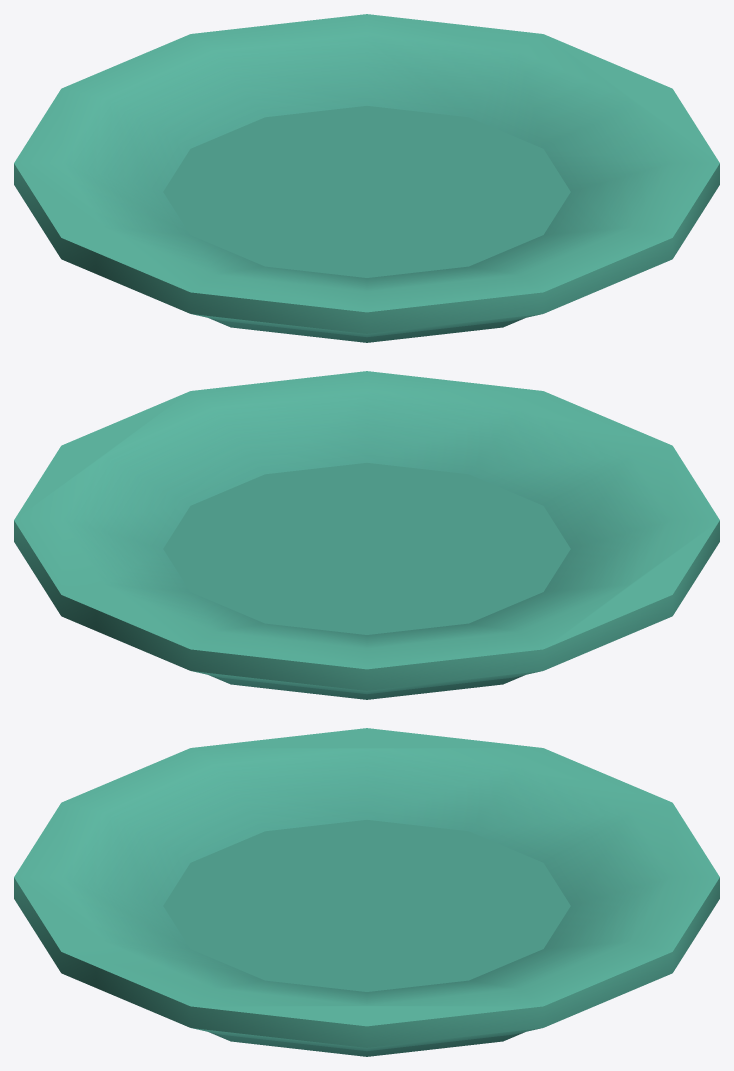
The model's file is plate.glb.
3 renders of one model, top to bottom at view 1: azimuth 30°, elevation 25°; view 2: azimuth 150°, elevation 25°; view 3: azimuth 270°, elevation 25°, orthographic.
Visible parts, largest first — view 1: plate; view 2: plate; view 3: plate.
Part boxes in pixels (left/top/right/bottom): plate: left=14, top=14, right=719, bottom=342; plate: left=14, top=371, right=719, bottom=699; plate: left=14, top=728, right=719, bottom=1056.
Size of the model in its own units: 0.8918 by 0.09 by 0.8918.
Materials: 1 (1 with a texture image).
